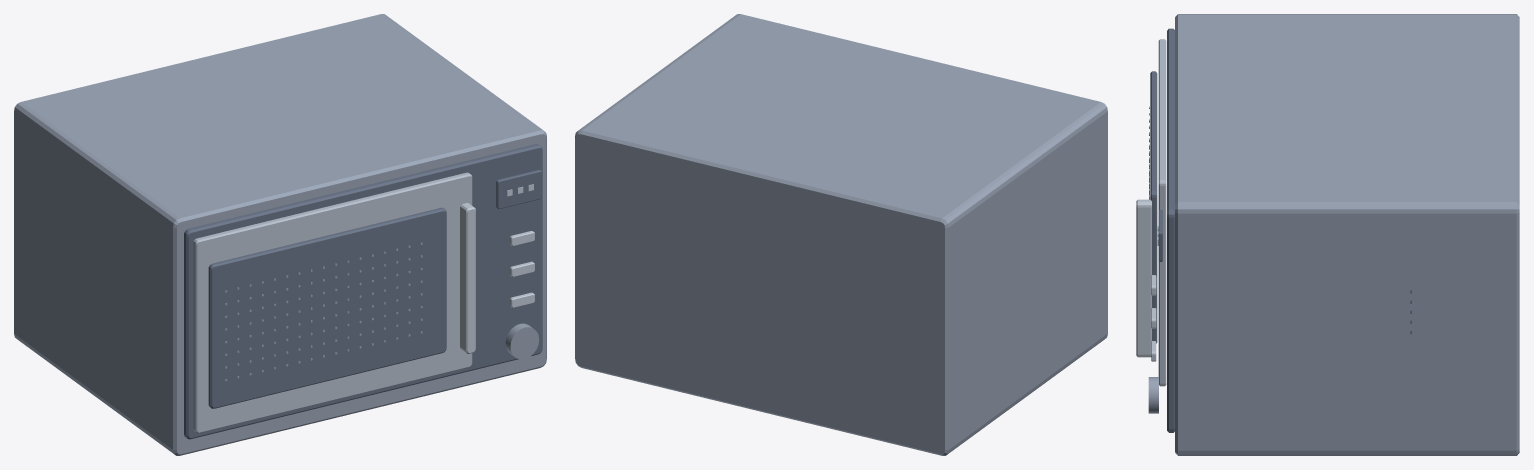
File: microwave-lite.glb
The picture shows the model from 3 angles, left to right: view 1: azimuth 30°, elevation 25°; view 2: azimuth 150°, elevation 25°; view 3: azimuth 270°, elevation 25°; orthographic projection. The views are drawn at different scales.
Visible parts, largest first — view 1: body, dark, soft, light; view 2: body; view 3: body, dark, light, soft.
Part boxes in pixels (x1=…): body: x1=14, y1=14, x2=546, y2=455; dark: x1=184, y1=144, x2=542, y2=439; soft: x1=193, y1=172, x2=472, y2=433; light: x1=460, y1=184, x2=534, y2=353; body: x1=575, y1=14, x2=1107, y2=455; body: x1=1148, y1=14, x2=1519, y2=455; dark: x1=1150, y1=28, x2=1411, y2=432; light: x1=1136, y1=199, x2=1158, y2=361; soft: x1=1158, y1=39, x2=1166, y2=386.
Bounding box in the file's own units: 0.52 × 0.32 × 0.42.
